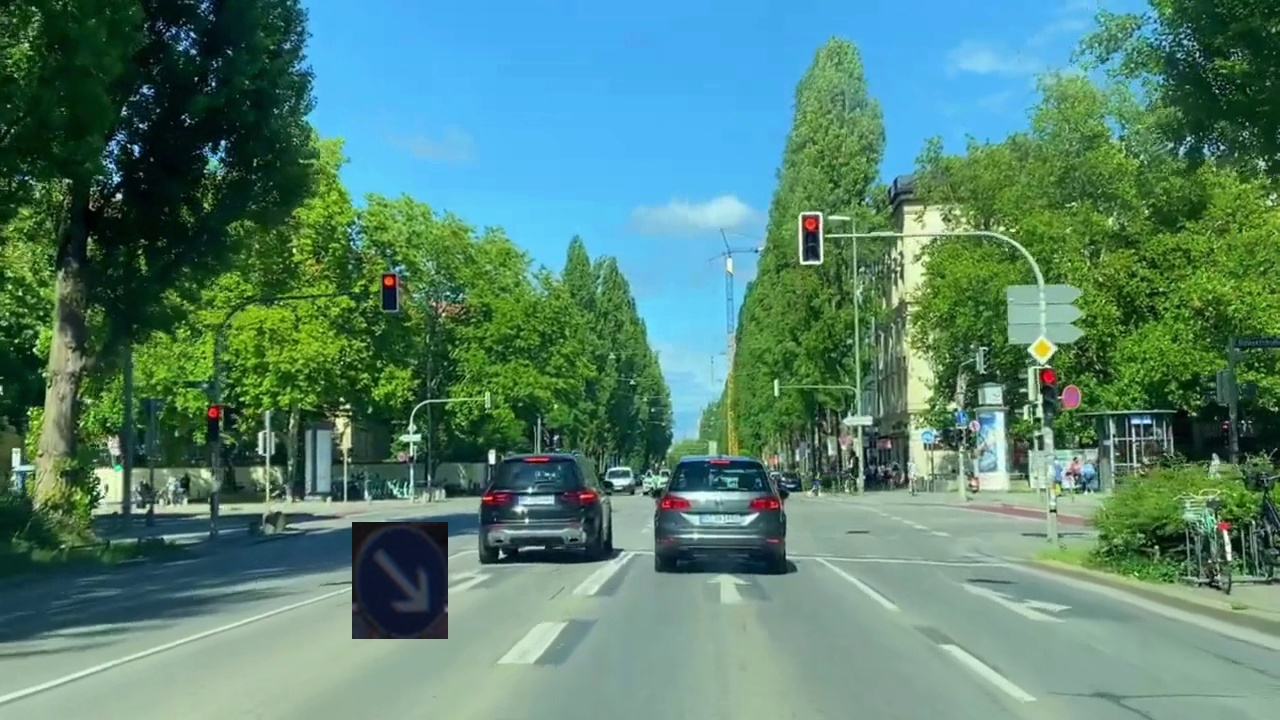Keep right: (352, 522, 448, 639)
